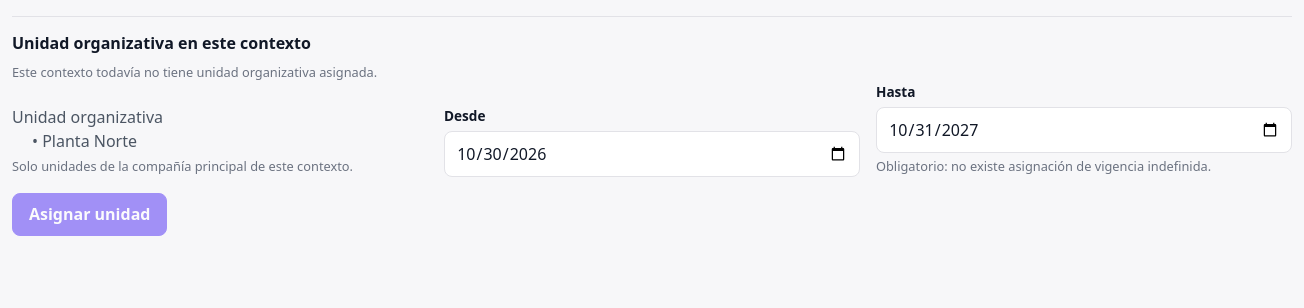
Test: AsignacionUnidadOrganizativa › traduce el rechazo por unidad de otra principal
Step 1. Click the list item "• Planta Norte" → (84,141), box [32,130,137,152]
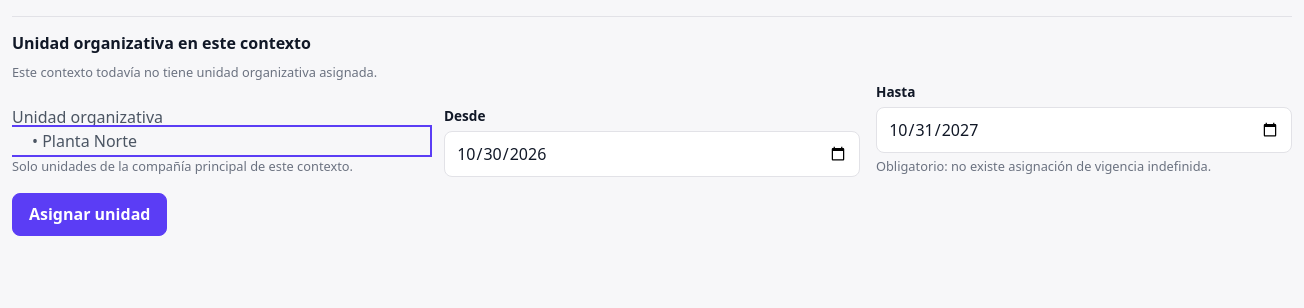
Step 2. Click the button "Asignar unidad" → (90,214), box [12,192,167,236]
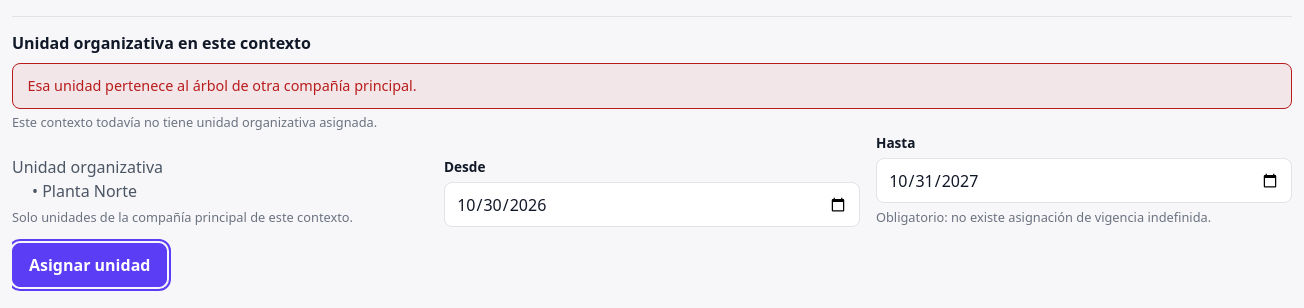
Result: the message shows "otra compañía principal" at [27,76,417,95]
